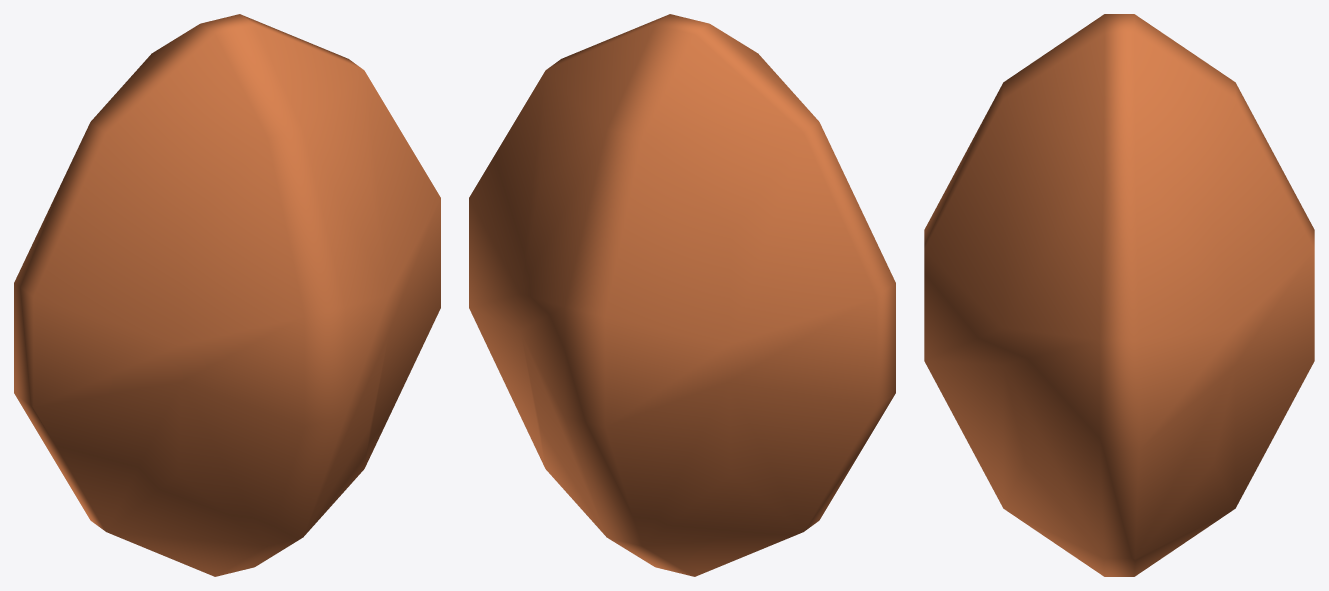
File: rock_break_01.fbx
3 renders of one model, left to right at view 1: azimuth 30°, elevation 25°; view 2: azimuth 150°, elevation 25°; view 3: azimuth 270°, elevation 25°, orthographic.
Parts seen in each view (by area): view 1: pCube2; view 2: pCube2; view 3: pCube2.
Boxes of the visible parts, x1,y1,x2,y2 form: pCube2: [14, 14, 440, 576]; pCube2: [469, 14, 895, 576]; pCube2: [924, 14, 1314, 576].
Bounding box in the file's own units: 0.1746 × 0.2222 × 0.1447.
